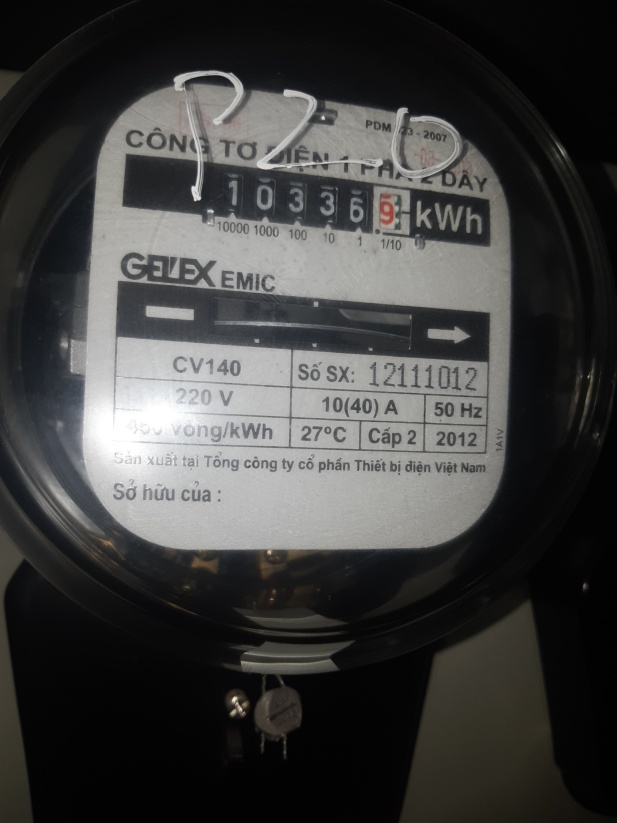counter: (131, 166, 507, 234)
electricity_meter: (5, 29, 608, 631)
